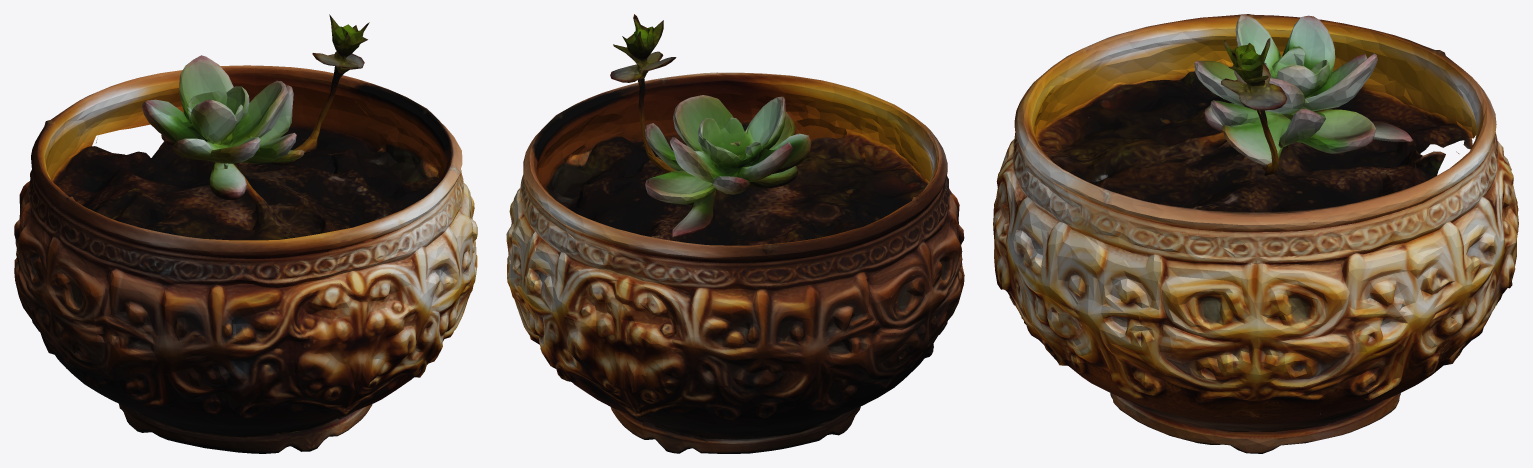
File: ceramic-planter-used-rustic-worn.jpeg.glb
3 views of the same model, side by side, from view 1: azimuth 30°, elevation 25°; view 2: azimuth 150°, elevation 25°; view 3: azimuth 270°, elevation 25° (orthographic). The views are drawn at different scales.
Visible parts, largest first — view 1: world; view 2: world; view 3: world.
Boxes of the visible parts, box(x1,y1,x2,y2) form: world: box(14, 14, 477, 453); world: box(506, 14, 964, 453); world: box(993, 14, 1518, 453).
Size of the model in its own units: 0.9838 by 0.8542 by 0.9974.
1 material, 1 textured.
